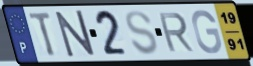2: (94, 7, 133, 59)
G: (190, 8, 224, 56)
N: (54, 9, 98, 59)
R: (156, 11, 196, 54)
S: (124, 9, 159, 57)
T: (27, 10, 59, 58)
